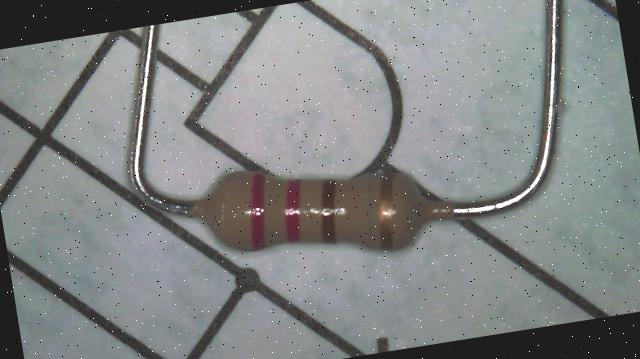brown: (316, 177, 344, 244)
gold: (370, 170, 403, 252)
red: (242, 170, 272, 249), (278, 178, 307, 242)
resistor: (190, 154, 449, 260)
